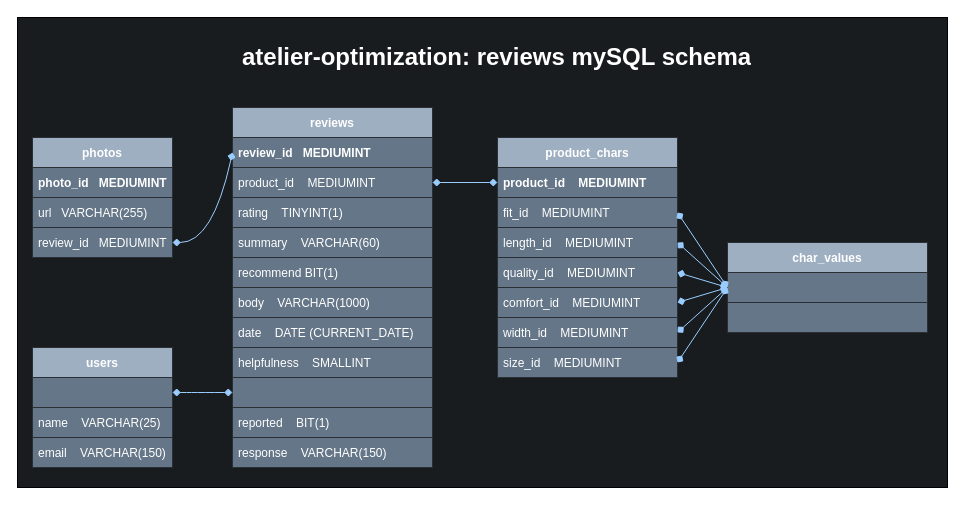
Some shapes in this 965 by 505 pixel diagram are drawn without their labels. The centre of each missing label's shape, as x and y in pixels:
"characteristic_id MEDIUMINT" belongs at pixel 827 287.
"reviewer_id MEDIUMINT" belongs at pixel 332 392.
"user_id MEDIUMINT" belongs at pixel 102 392.
"value TINYINT(1)" belongs at pixel 827 317.
